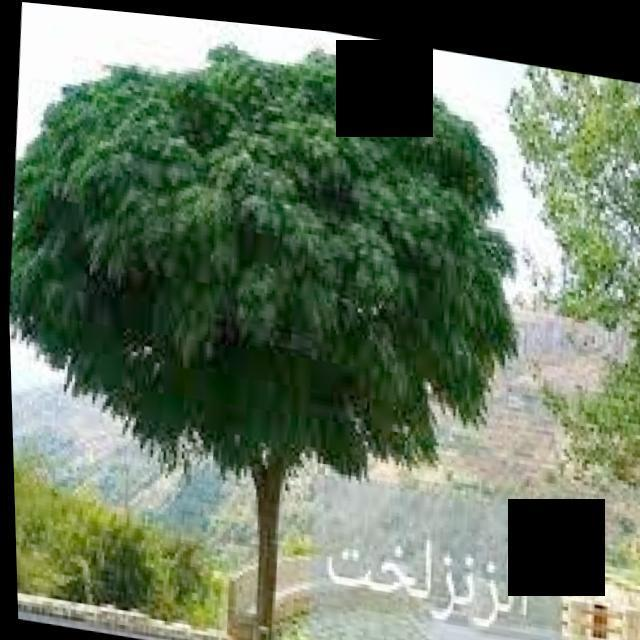tree: (0, 0, 540, 640), (466, 48, 640, 486)
